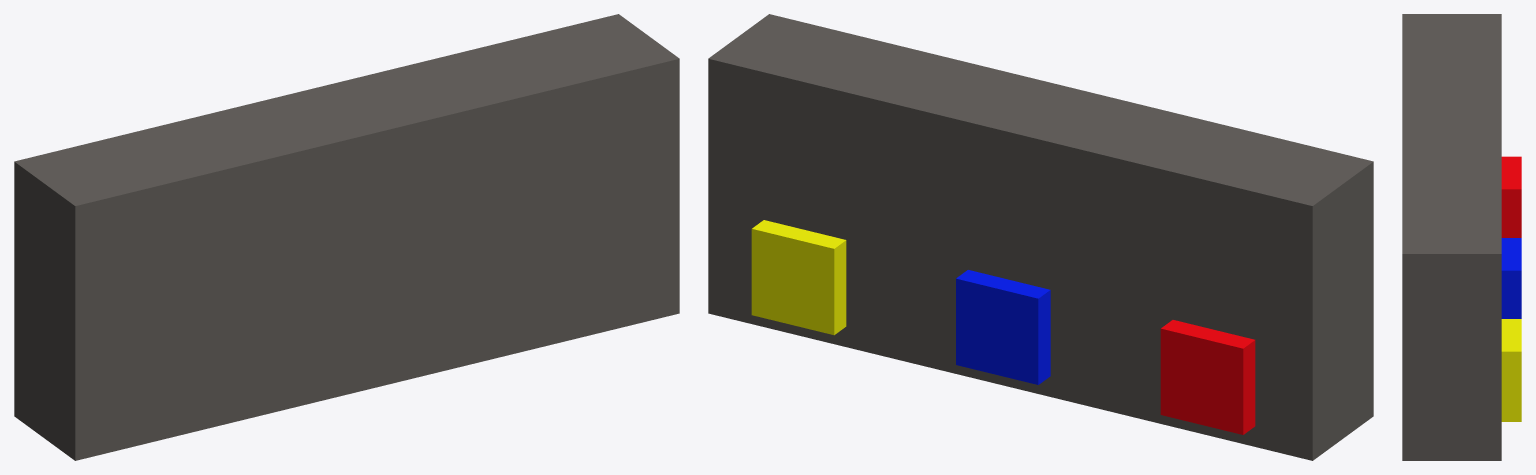
File: Botones.fbx
3 renders of one model, left to right at view 1: azimuth 30°, elevation 25°; view 2: azimuth 150°, elevation 25°; view 3: azimuth 270°, elevation 25°, orthographic. The views are drawn at different scales.
Parts seen in each view (by area): view 1: Cube; view 2: Cube; view 3: Cube.
Part boxes in pixels (bbox=[...]): Cube: bbox=[14, 14, 679, 460]; Cube: bbox=[708, 14, 1373, 460]; Cube: bbox=[1402, 14, 1521, 460].
Bounding box in the file's own units: 296 × 119 × 62.14.
4 materials, 4 textured.
